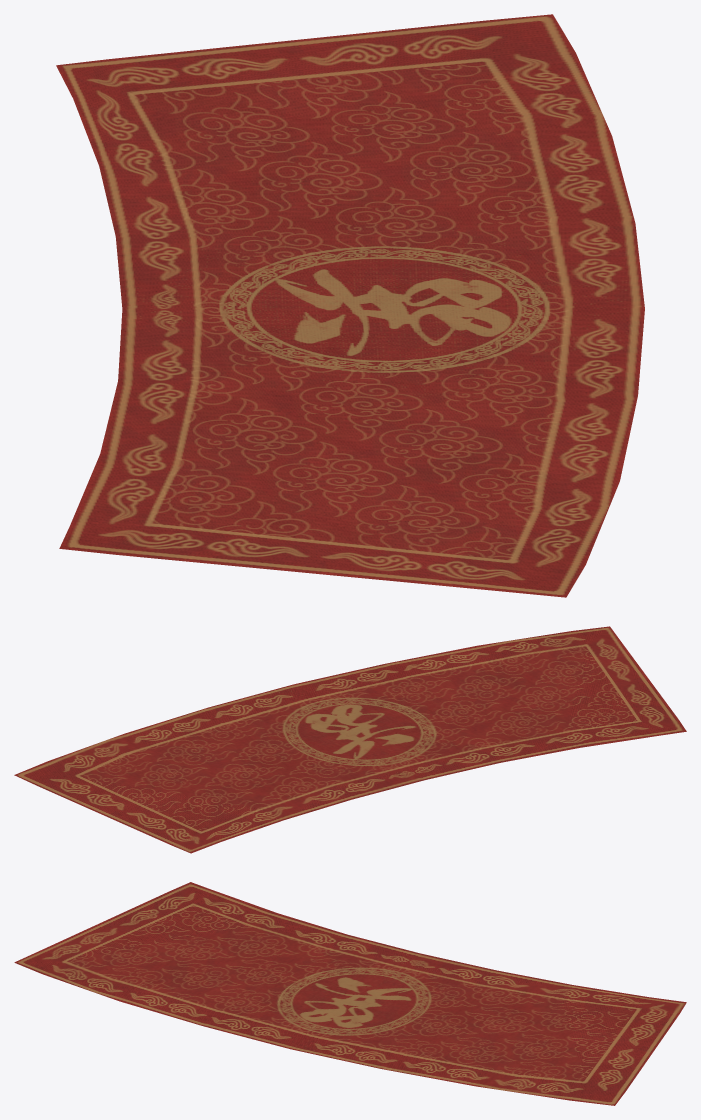
Rendered from fb_prop_ditan_04.FBX.
3 renders of one model, top to bottom at view 1: azimuth 30°, elevation 25°; view 2: azimuth 150°, elevation 25°; view 3: azimuth 270°, elevation 25°, orthographic. The views are drawn at different scales.
Parts seen in each view (by area): view 1: fb_prop_ditan_04__1_; view 2: fb_prop_ditan_04__1_; view 3: fb_prop_ditan_04__1_.
Boxes of the visible parts, bbox=[...] form: fb_prop_ditan_04__1_: bbox=[56, 14, 644, 597]; fb_prop_ditan_04__1_: bbox=[14, 626, 686, 853]; fb_prop_ditan_04__1_: bbox=[14, 882, 686, 1105].
Size of the model in its own units: 973 by 0.0011 by 1235.
1 material, 1 textured.
